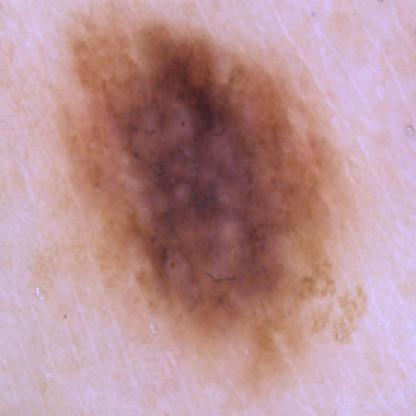benign: (67, 26, 366, 347)
